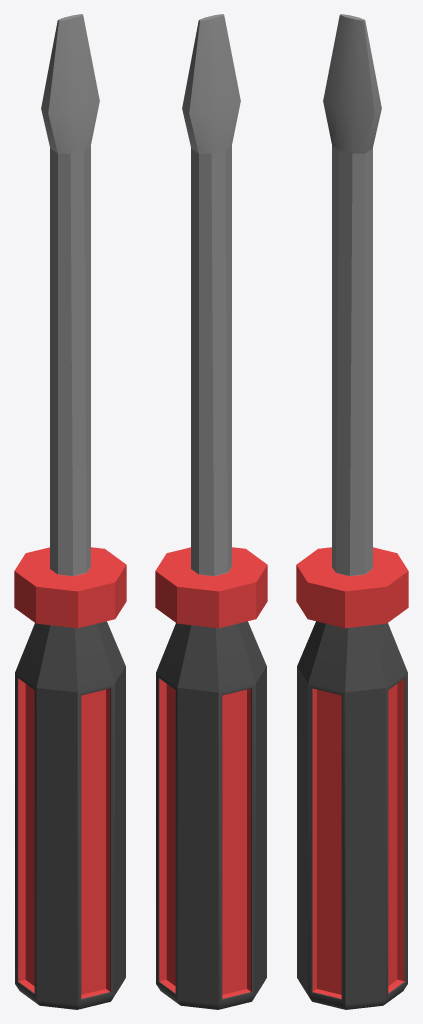
Rendered from screwdriver.fbx.
The picture shows the model from 3 angles, left to right: view 1: azimuth 30°, elevation 25°; view 2: azimuth 210°, elevation 25°; view 3: azimuth 330°, elevation 25°; orthographic projection.
Visible parts, largest first — view 1: Screwdriver; view 2: Screwdriver; view 3: Screwdriver.
Part boxes in pixels (bbox=[...]): Screwdriver: bbox=[14, 14, 126, 1009]; Screwdriver: bbox=[155, 14, 267, 1009]; Screwdriver: bbox=[296, 14, 408, 1009].
Bounding box in the file's own units: 2.25 × 23.09 × 2.25.
